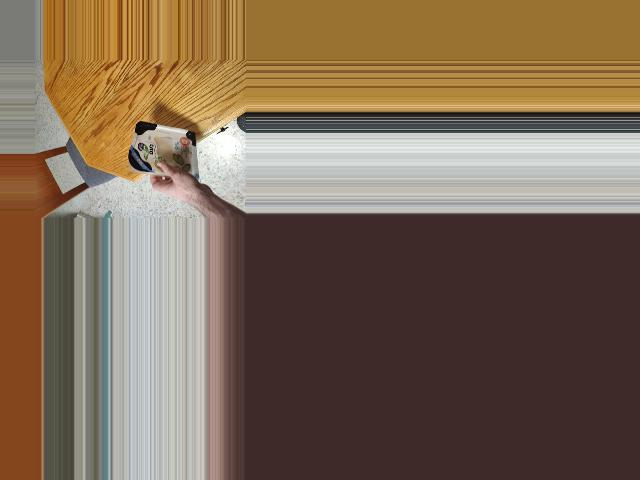cheese: (127, 121, 200, 184)
